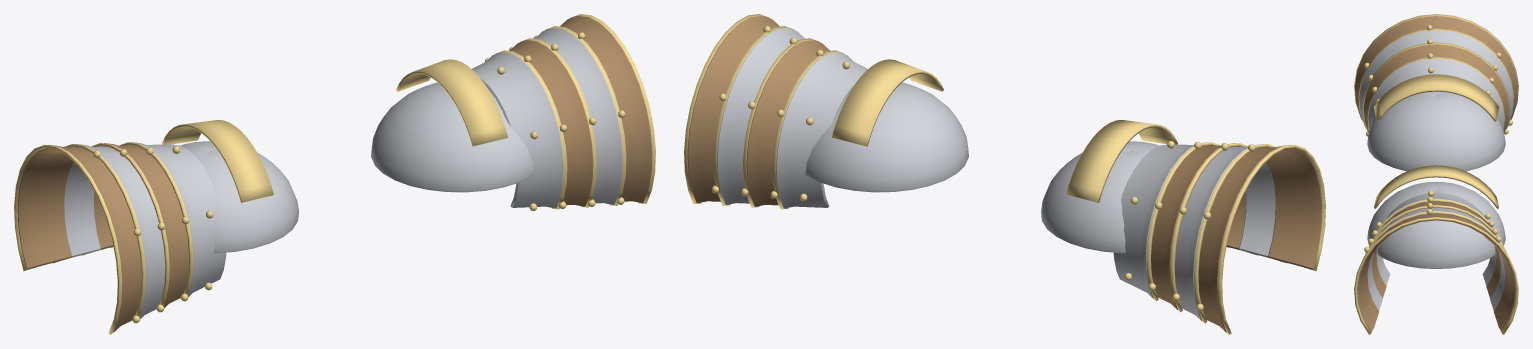
File: schulter_lamellen2.glb
The picture shows the model from 3 angles, left to right: view 1: azimuth 30°, elevation 25°; view 2: azimuth 150°, elevation 25°; view 3: azimuth 270°, elevation 25°; orthographic projection. The views are drawn at different scales.
Visible parts, largest first — view 1: G_schulter_lamellen2; view 2: G_schulter_lamellen2; view 3: G_schulter_lamellen2.
Part boxes in pixels (box(x1,y1,x2,y2)): G_schulter_lamellen2: box(14, 14, 655, 334); G_schulter_lamellen2: box(684, 14, 1325, 334); G_schulter_lamellen2: box(1354, 14, 1518, 334).
Bounding box in the file's own units: 0.646 × 0.1733 × 0.2204.
